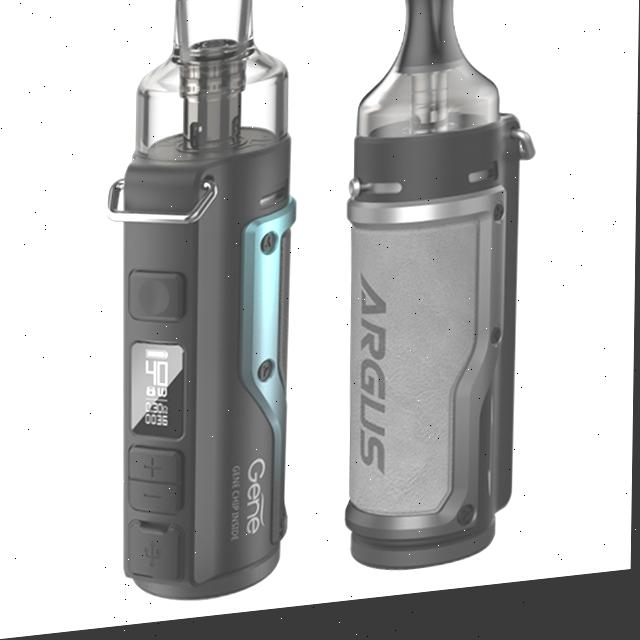vape: (104, 0, 301, 614), (343, 0, 537, 586)
